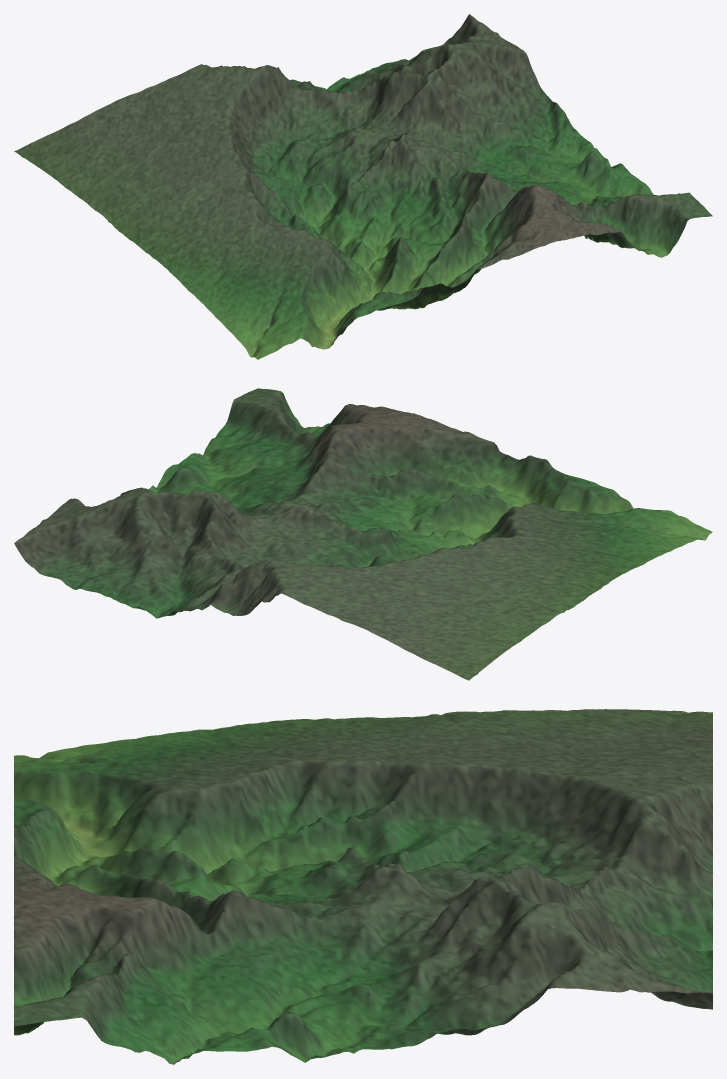
File: lareunion-terrain-9.glb
3 renders of one model, top to bottom at view 1: azimuth 30°, elevation 25°; view 2: azimuth 150°, elevation 25°; view 3: azimuth 270°, elevation 25°, orthographic. The views are drawn at different scales.
Parts seen in each view (by area): view 1: LaReunionRgeAltiTerrain_9; view 2: LaReunionRgeAltiTerrain_9; view 3: LaReunionRgeAltiTerrain_9.
Part boxes in pixels (x1,y1,x2,y2): LaReunionRgeAltiTerrain_9: [14, 14, 712, 359]; LaReunionRgeAltiTerrain_9: [14, 388, 712, 680]; LaReunionRgeAltiTerrain_9: [14, 709, 712, 1064].
Bounding box in the file's own units: 55.09 × 10.34 × 51.16.
